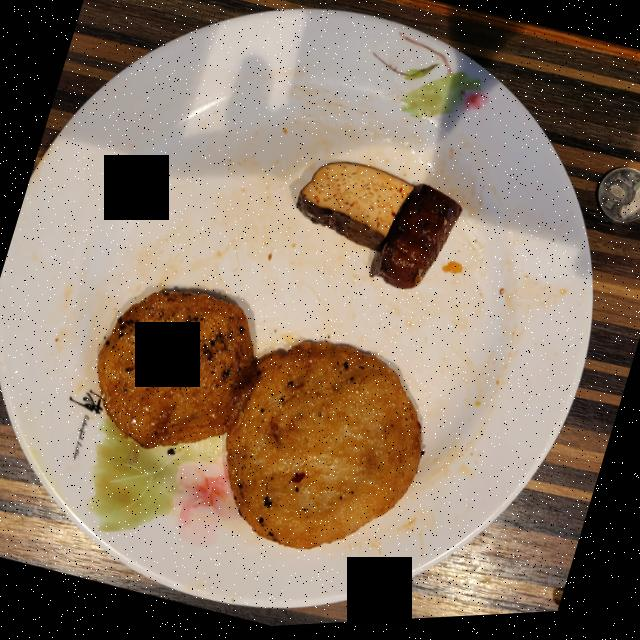coin: (596, 173, 640, 229)
firm tofu: (295, 165, 461, 293)
fish cake: (96, 293, 421, 552)
